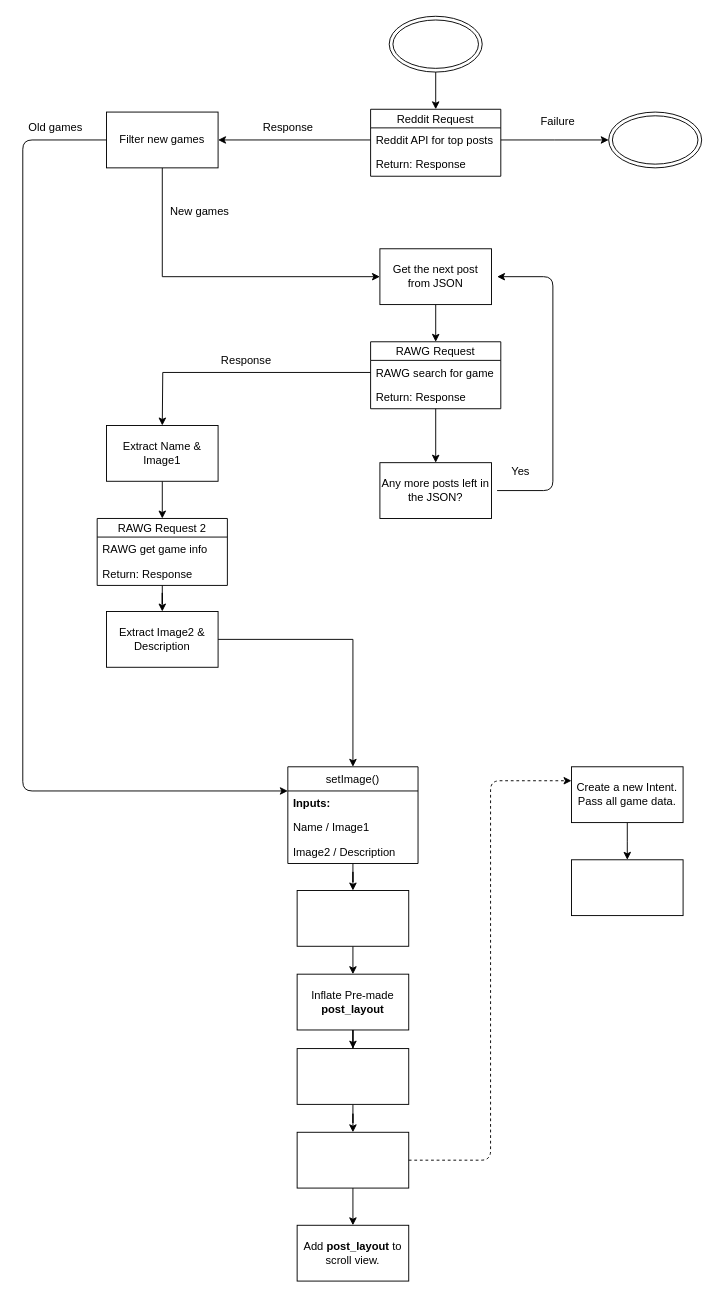
Some shapes in this 718 by 1297 pixel diagram are drawn without their labels. Here are the shapes that lost their labels. From the top down, the centre of each, then its label:
[435,43]: Start
[655,139]: "Failed to get Games
[627,887]: Start gameDetail.java
[352,918]: Store new list of games.
[352,1076]: Set Name and Image of post_layout
[352,1159]: Set on_click_listener
